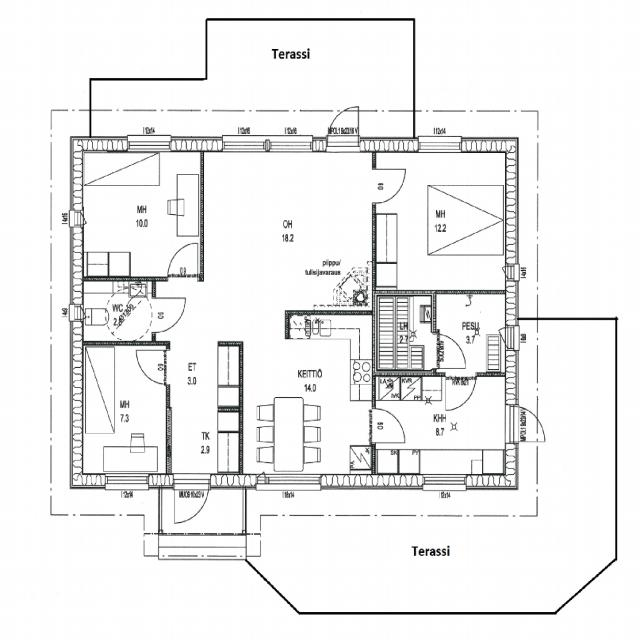door: (174, 474, 208, 528), (328, 102, 358, 151), (506, 407, 548, 442), (446, 372, 476, 411), (372, 409, 406, 443), (152, 298, 186, 332), (433, 334, 466, 368), (168, 243, 197, 281), (137, 351, 170, 384), (372, 170, 404, 202)
